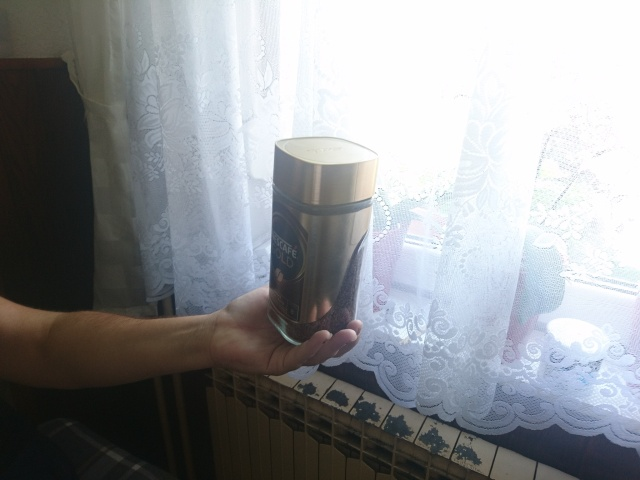Nescafe Gold 225g: (263, 134, 381, 348)
